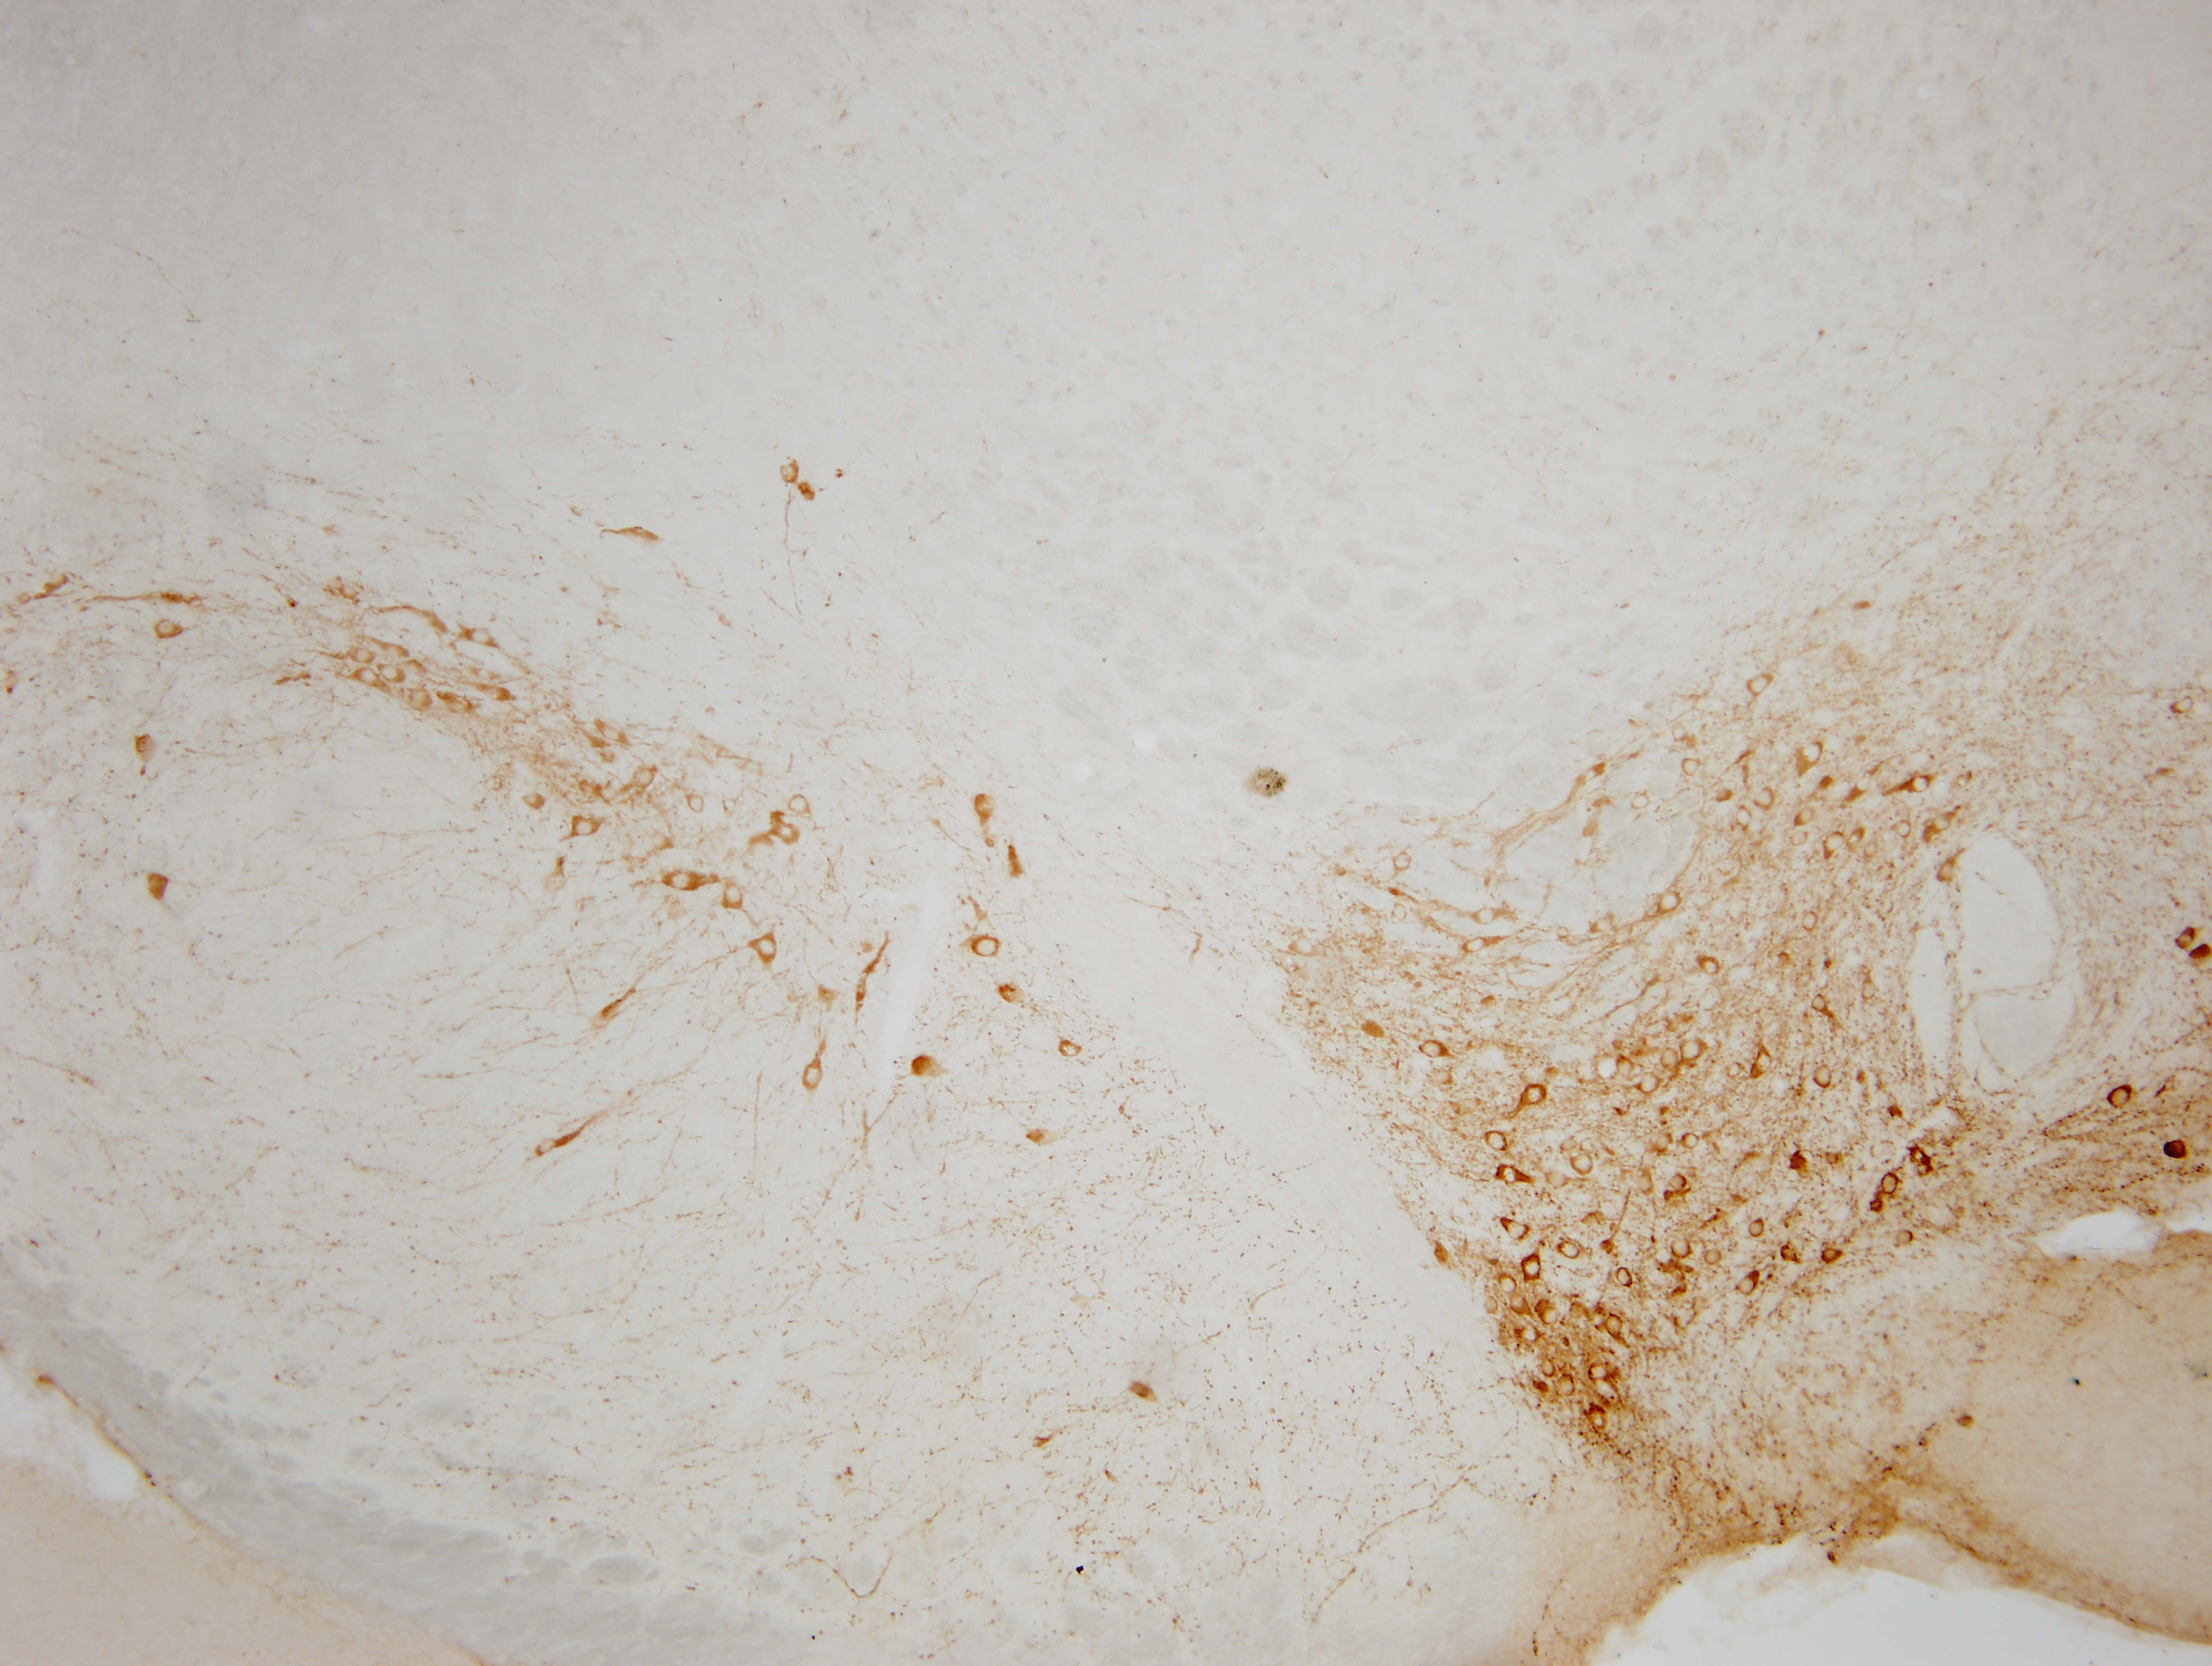neuron: (972, 931, 1004, 964), (1289, 933, 1322, 964), (572, 814, 598, 840), (633, 765, 659, 791), (650, 830, 677, 856), (668, 868, 694, 894), (755, 936, 782, 963), (773, 819, 799, 845), (787, 793, 813, 819), (801, 1064, 827, 1090), (1387, 901, 1413, 928), (1420, 1038, 1446, 1064), (1464, 933, 1490, 959), (1476, 901, 1502, 928), (1499, 1164, 1525, 1190), (1504, 1218, 1530, 1244), (1518, 1321, 1544, 1348), (1521, 1256, 1548, 1283), (1521, 1083, 1548, 1109), (1537, 1302, 1563, 1328), (1544, 1166, 1570, 1192), (1553, 1374, 1579, 1400), (1556, 1237, 1582, 1263), (156, 618, 182, 644), (1588, 1362, 1614, 1388), (1588, 1407, 1614, 1433), (1602, 1312, 1628, 1339), (1610, 1263, 1637, 1290), (1633, 1171, 1659, 1197), (1638, 1071, 1665, 1097), (1658, 889, 1684, 915), (1672, 1236, 1698, 1262), (1680, 1038, 1707, 1064), (1682, 753, 1708, 779), (1698, 952, 1724, 978), (1731, 805, 1757, 831), (1736, 1272, 1763, 1299), (1752, 1050, 1778, 1076), (1754, 788, 1780, 814), (1798, 910, 1824, 936), (1799, 740, 1826, 766), (1822, 831, 1848, 858), (1854, 773, 1880, 800), (1880, 1171, 1906, 1197), (1909, 772, 1936, 798), (2107, 1087, 2133, 1113), (2170, 695, 2196, 721), (379, 660, 406, 686), (407, 684, 434, 711), (521, 789, 547, 816), (684, 789, 710, 814), (724, 886, 748, 912), (780, 460, 804, 487), (1392, 851, 1418, 875), (1483, 1129, 1509, 1153), (1614, 1054, 1640, 1078), (1651, 1130, 1677, 1155), (1659, 1045, 1686, 1069), (1749, 672, 1773, 698), (1792, 805, 1819, 830), (1812, 1066, 1836, 1092), (1859, 976, 1883, 1003), (1934, 859, 1960, 884), (351, 644, 378, 668), (357, 665, 383, 690), (385, 639, 409, 665), (470, 625, 495, 651), (537, 1136, 563, 1160), (600, 719, 624, 744), (1058, 1038, 1082, 1062), (1570, 1152, 1595, 1176), (1810, 992, 1829, 1013), (1861, 842, 1882, 861), (1955, 770, 1976, 789), (1485, 1297, 1504, 1316), (1499, 1276, 1518, 1295), (1509, 1295, 1528, 1314), (1539, 1360, 1558, 1379), (1555, 922, 1574, 941), (1560, 1136, 1579, 1155), (1631, 793, 1651, 812), (1658, 970, 1677, 989), (1670, 1172, 1689, 1192), (1672, 723, 1691, 742), (1682, 1132, 1701, 1152), (1705, 1248, 1724, 1267), (1726, 1061, 1745, 1080), (1749, 1218, 1768, 1237), (1822, 1246, 1841, 1265), (1848, 830, 1868, 849), (1894, 821, 1913, 840), (1896, 1229, 1915, 1248), (1934, 814, 1953, 833)
